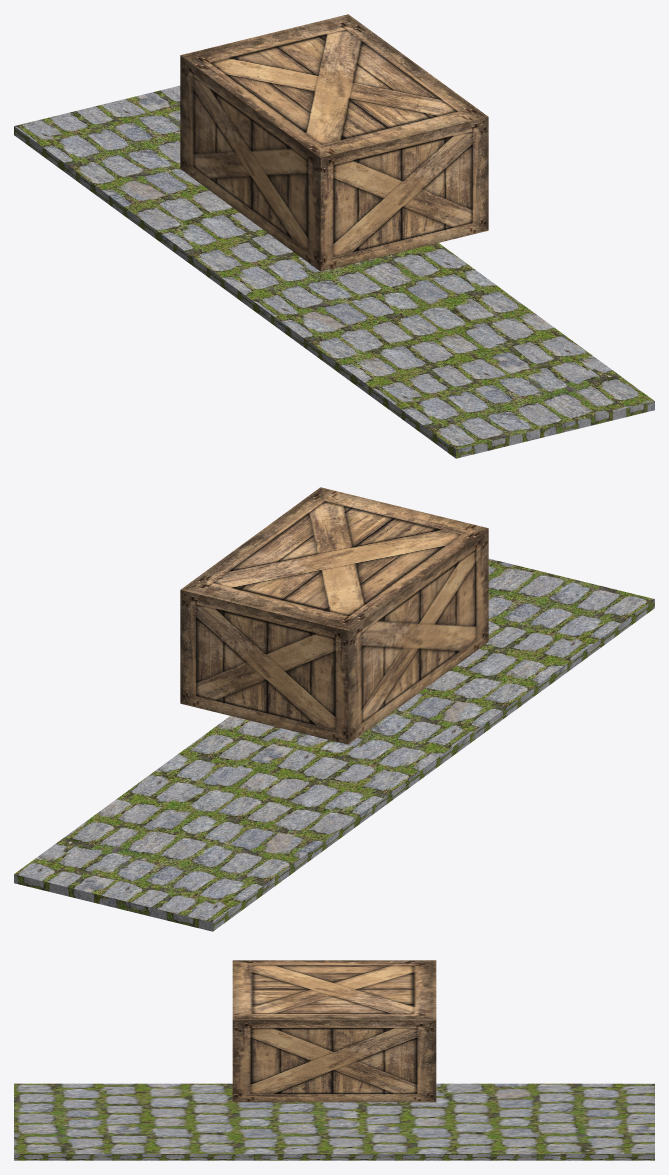
Rendered from SlideObstacle.fbx.
3 renders of one model, top to bottom at view 1: azimuth 30°, elevation 25°; view 2: azimuth 150°, elevation 25°; view 3: azimuth 270°, elevation 25°, orthographic. The views are drawn at different scales.
Parts seen in each view (by area): view 1: Cube, Cube.001; view 2: Cube, Cube.001; view 3: Cube, Cube.001.
Part boxes in pixels (x1,y1,x2,y2): Cube: [14, 85, 654, 458]; Cube.001: [180, 14, 488, 271]; Cube: [14, 558, 654, 931]; Cube.001: [180, 487, 488, 744]; Cube: [14, 1083, 654, 1160]; Cube.001: [232, 960, 436, 1102].
Size of the model in its own units: 445 by 399 by 1713.
